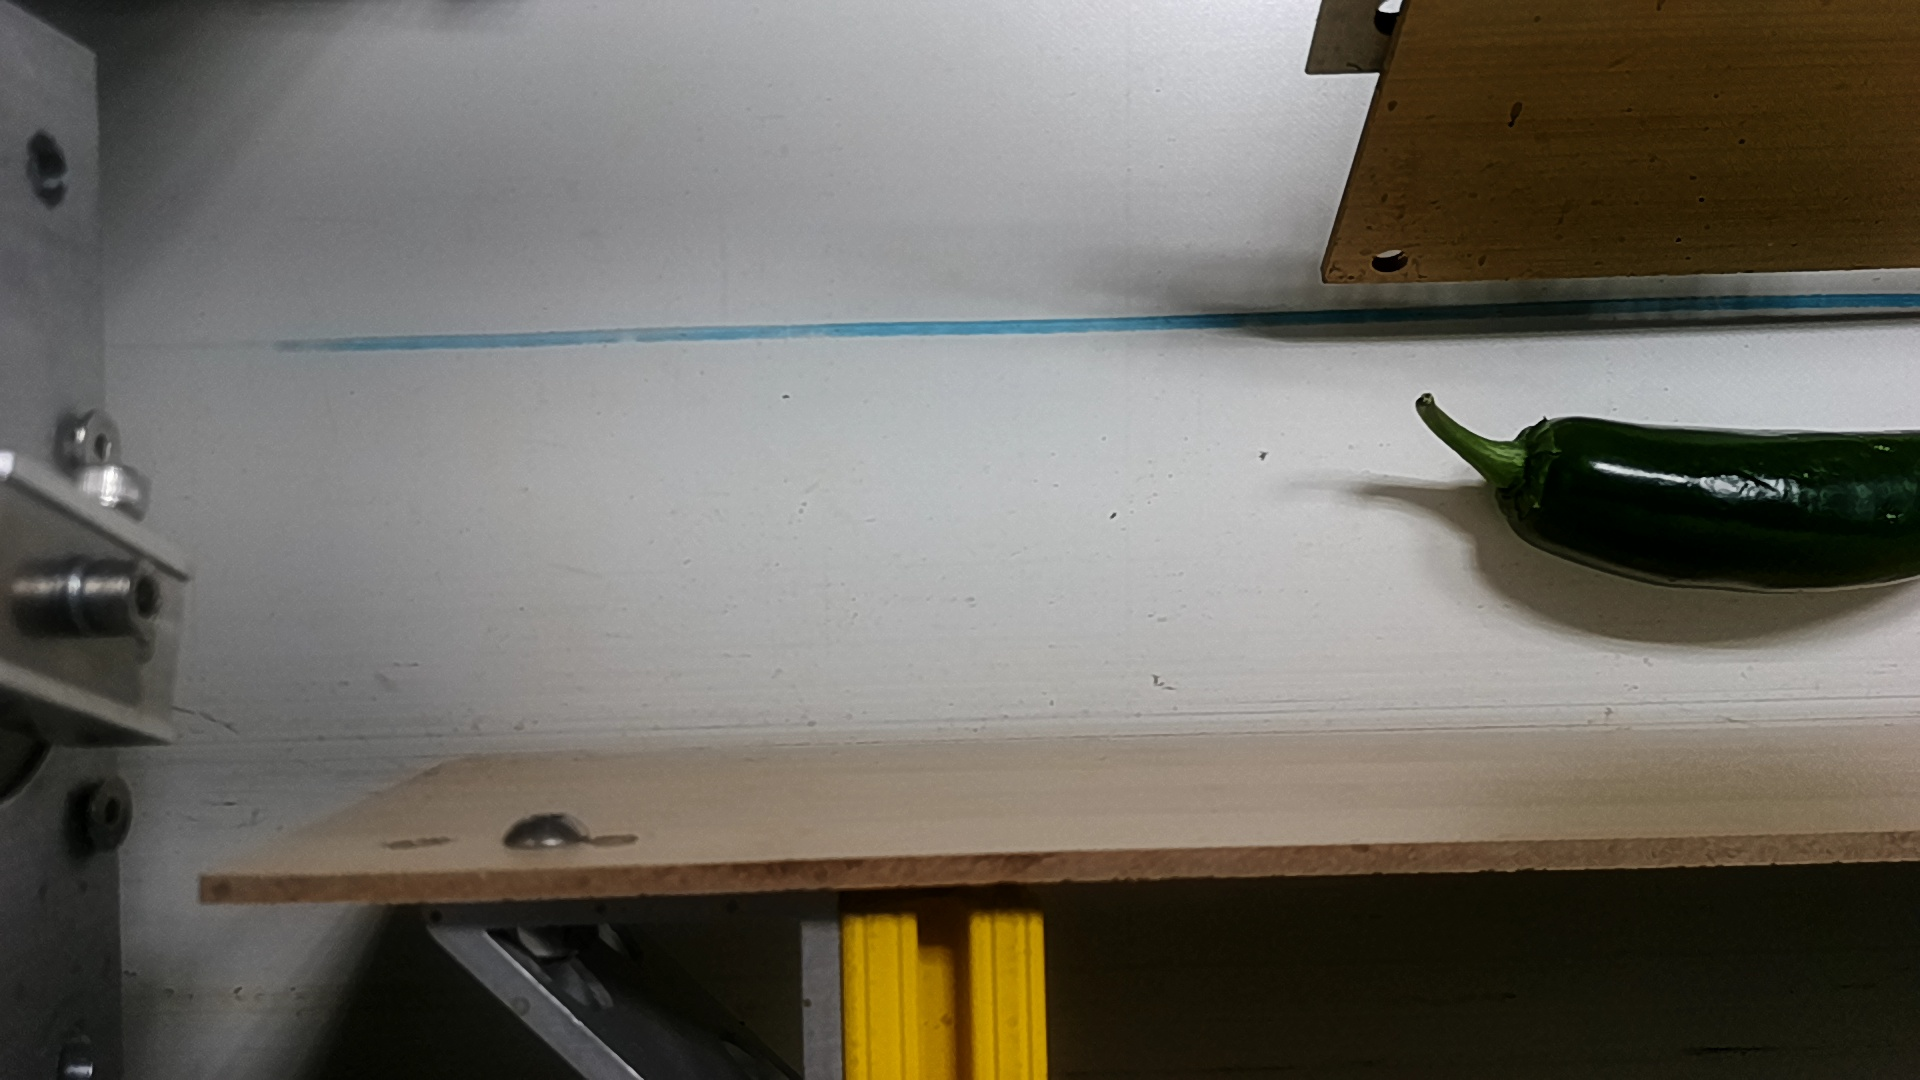Cut Point: (1487, 402, 1593, 554)
